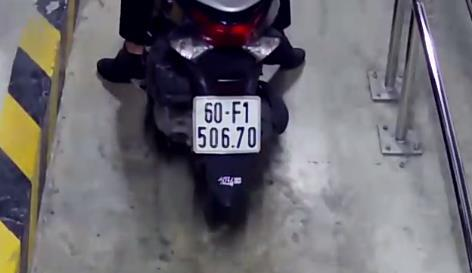lisence: (192, 96, 260, 153)
